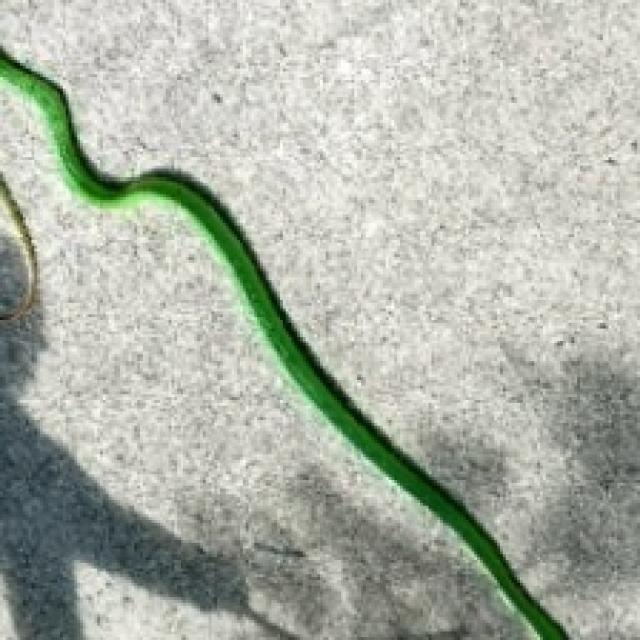red-tailed green ratsnake: (0, 49, 569, 640), (0, 176, 36, 318)
